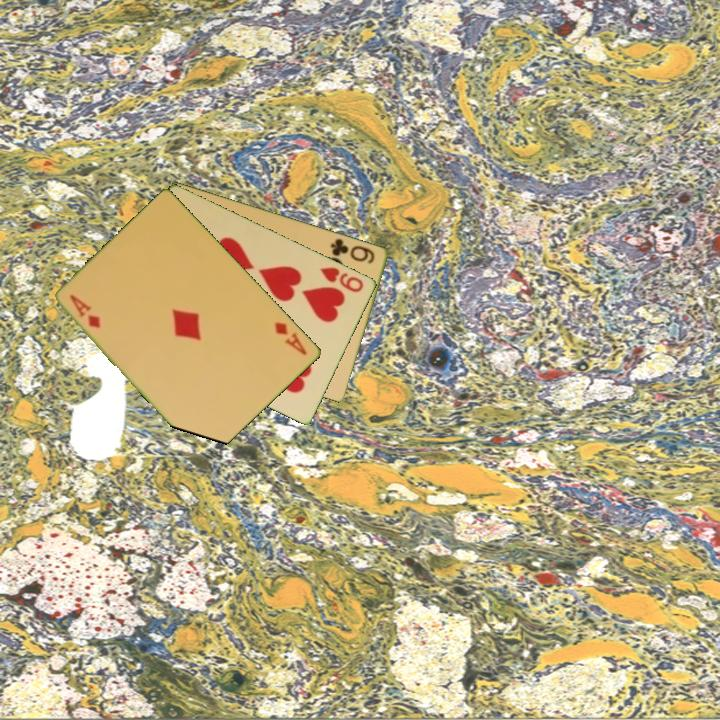6c: (327, 235, 378, 267)
9h: (317, 263, 367, 295)
Ad: (271, 318, 310, 358), (66, 291, 104, 331)
